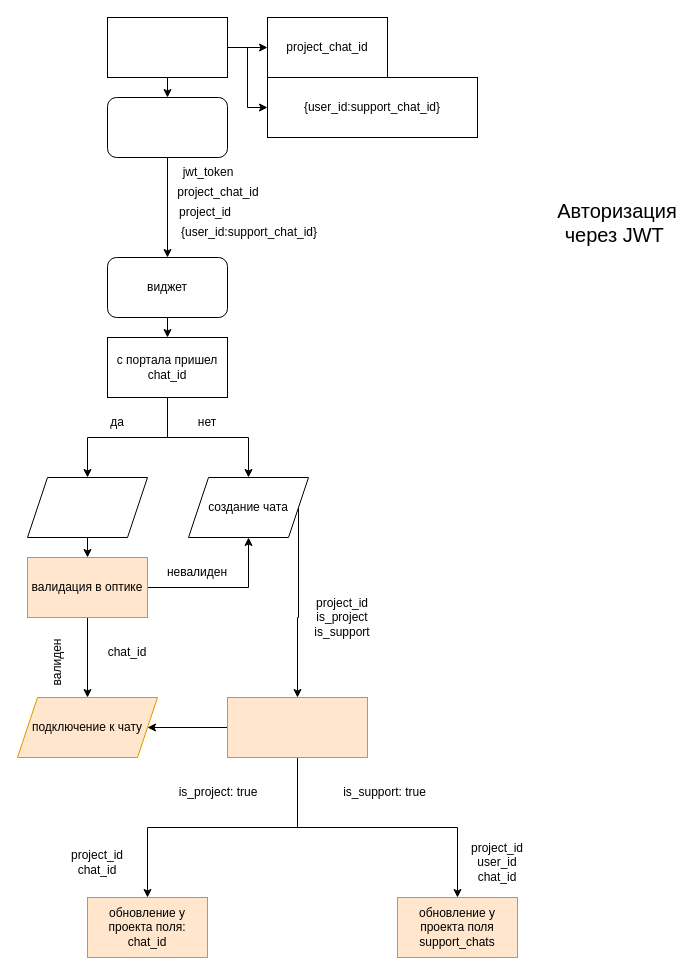
Some shapes in this 695 by 975 pixel diagram are drawn without their labels. Each missing label, with the centre of its shape:
"валидация чата" belongs at [87,507].
"портал" belongs at [167,127].
"Проект" belongs at [167,47].
"создание чата в оптике" belongs at [297,727].
